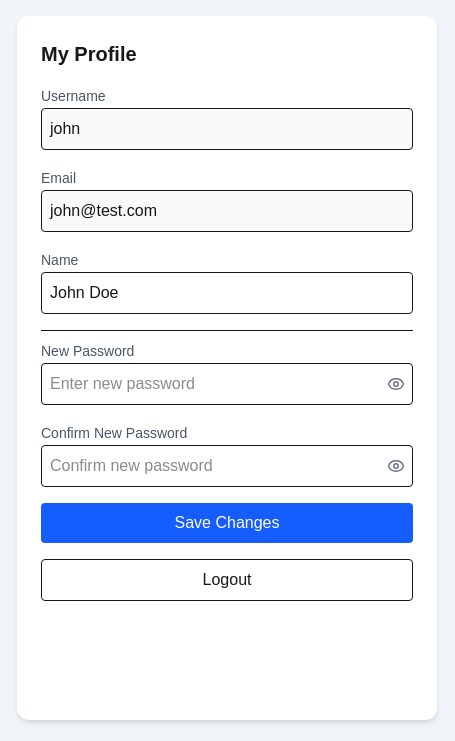
Test: ProfilePage › shows error if new password and confirm do not match
Expected: the heading "My Profile" is shown, [41,43,137,65]
Step 1. Type "Test#123!" into the password field with placeholder "Enter new password" → (227, 384), box [41,363,413,405]
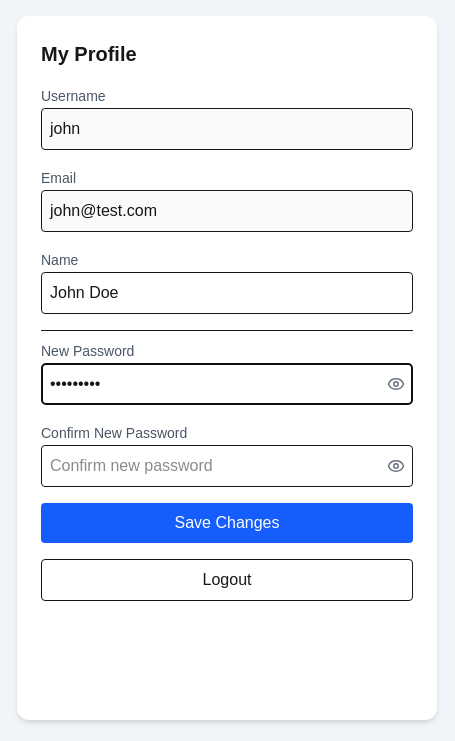
Step 2. Type "Different#123!" into the password field with placeholder "Confirm new password" → (227, 466), box [41,445,413,487]
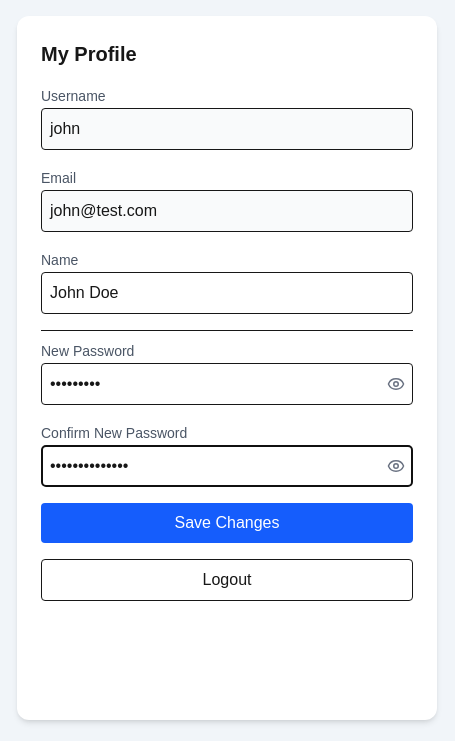
Step 3. Click the button "Save Changes" → (227, 523), box [41,503,413,543]
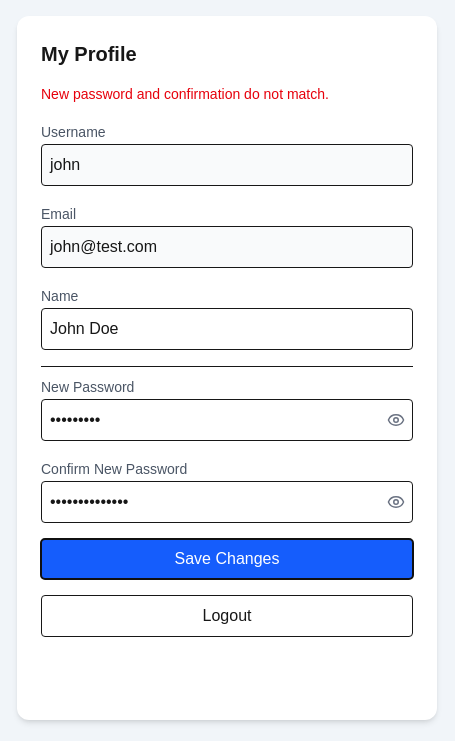
Result: the text "New password and confirmation do not match." is shown at [41,86,329,102]
